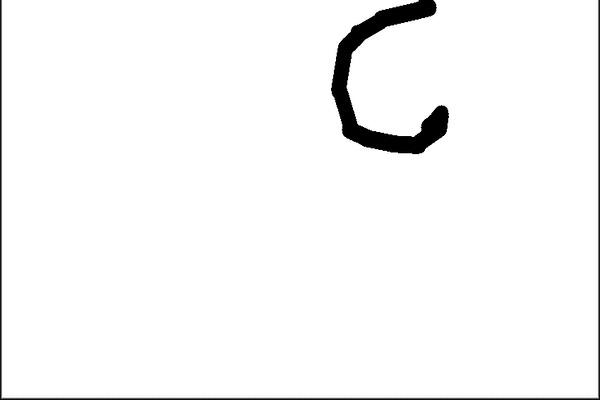C: (325, 0, 455, 158)
